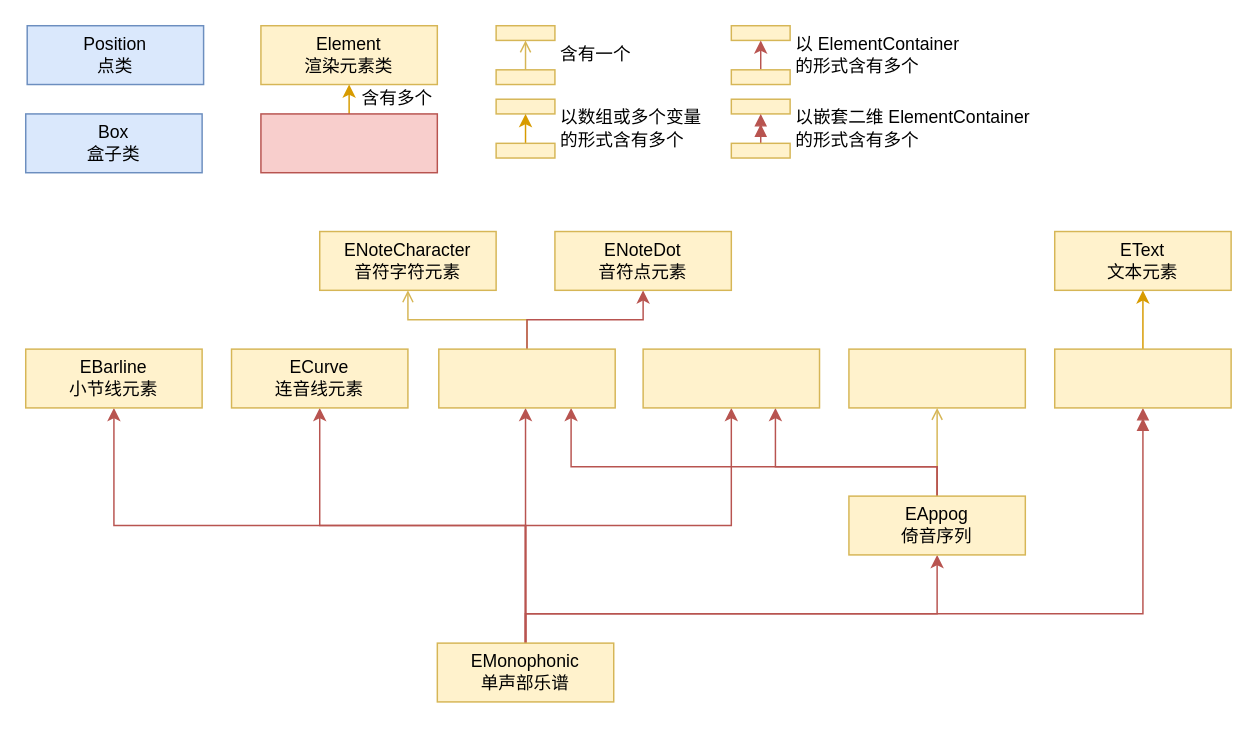
Image size: 1257x739. Some labels were removed from this diagram. The shapes that lost their labels are listed below. From the top down, each one's centre as x and y in pixels, then its label:
the point at 348,142: ElementContainer 渲染元素容器
the point at 526,378: ENote 音符元素
the point at 731,378: EUnderline 下划线元素
the point at 936,378: EAppogTail 倚音尾巴元素
the point at 1142,378: ELyricItem 歌词项目元素
